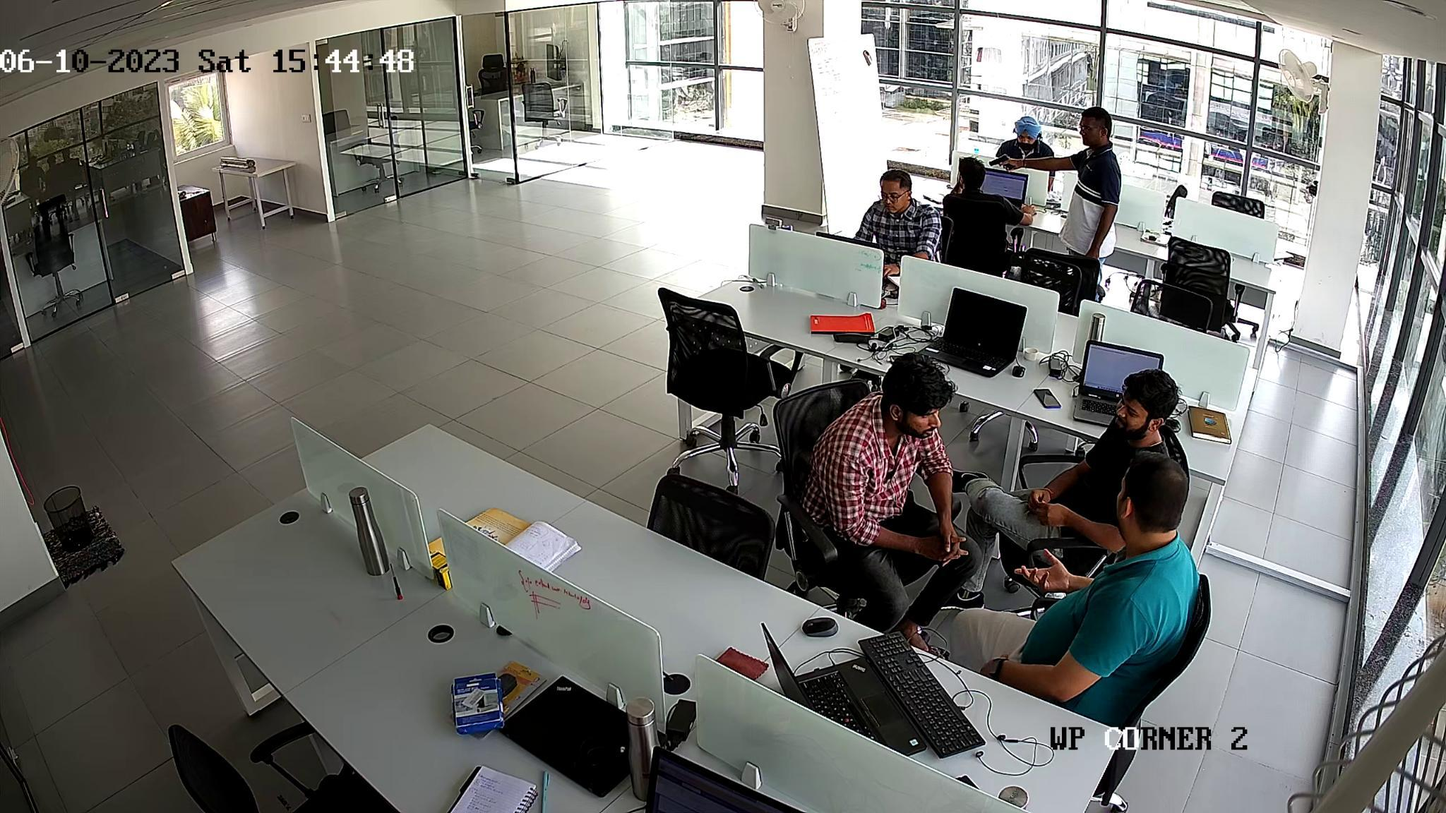gun: (989, 154, 1013, 169)
